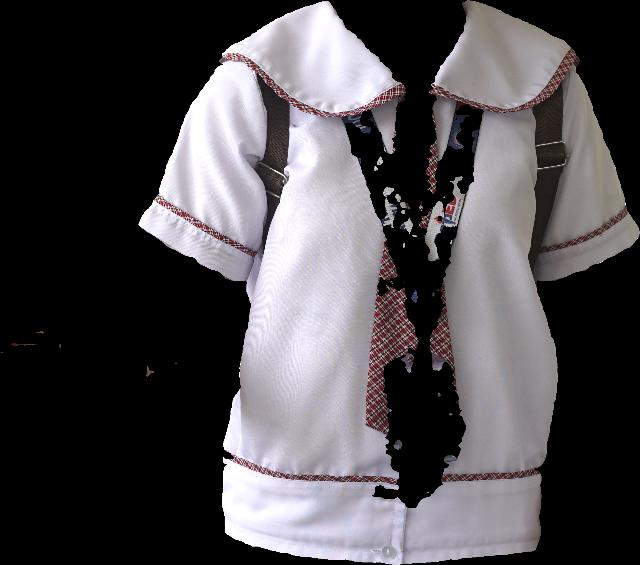pologirl: (139, 0, 639, 564)
